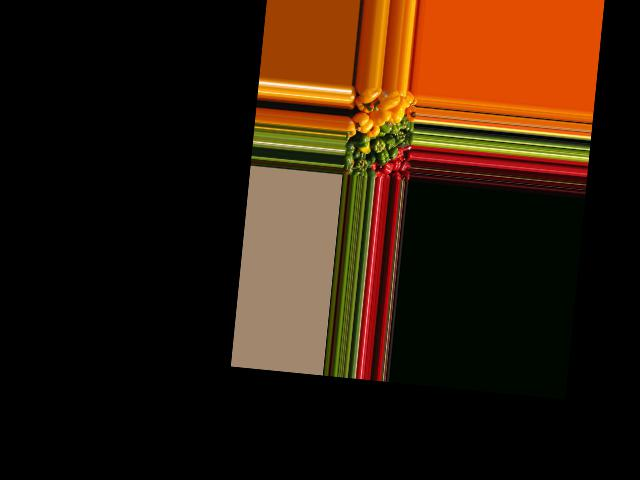bell_pepper: (341, 158, 354, 175)
